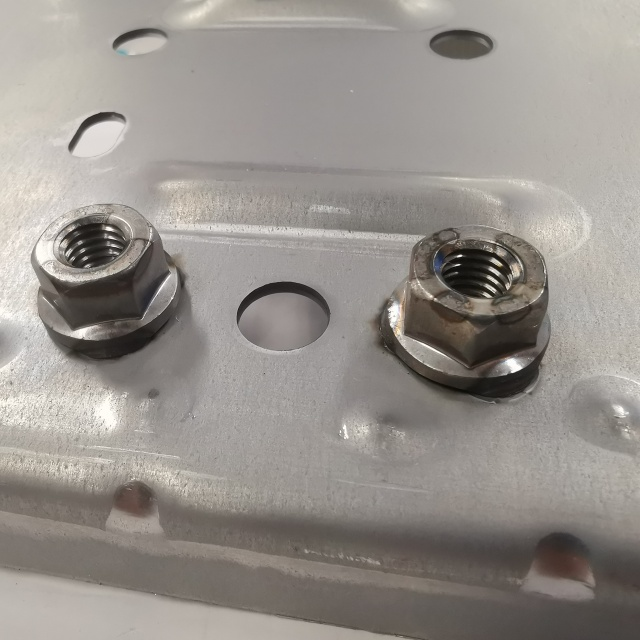dog: (375, 221, 555, 399), (28, 200, 185, 362)
